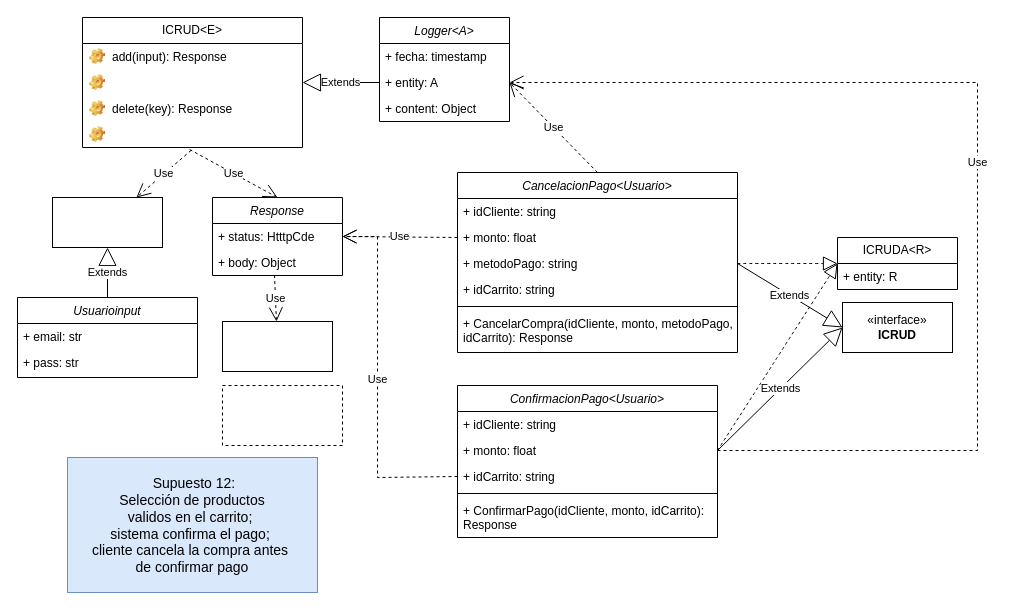
Some shapes in this 1009 by 610 pixel diagram are drawn without their labels. Here are the shapes that lost their labels. From the top down, the centre of each, then its label:
At (192,82): "update(key, input): Response".
At (192,134): "query(key): Response".
At (107,222): "«interface» input".
At (277,346): "HttpCode".
At (282,415): "200: OK 400: Not Allowed 404: Not Found".
